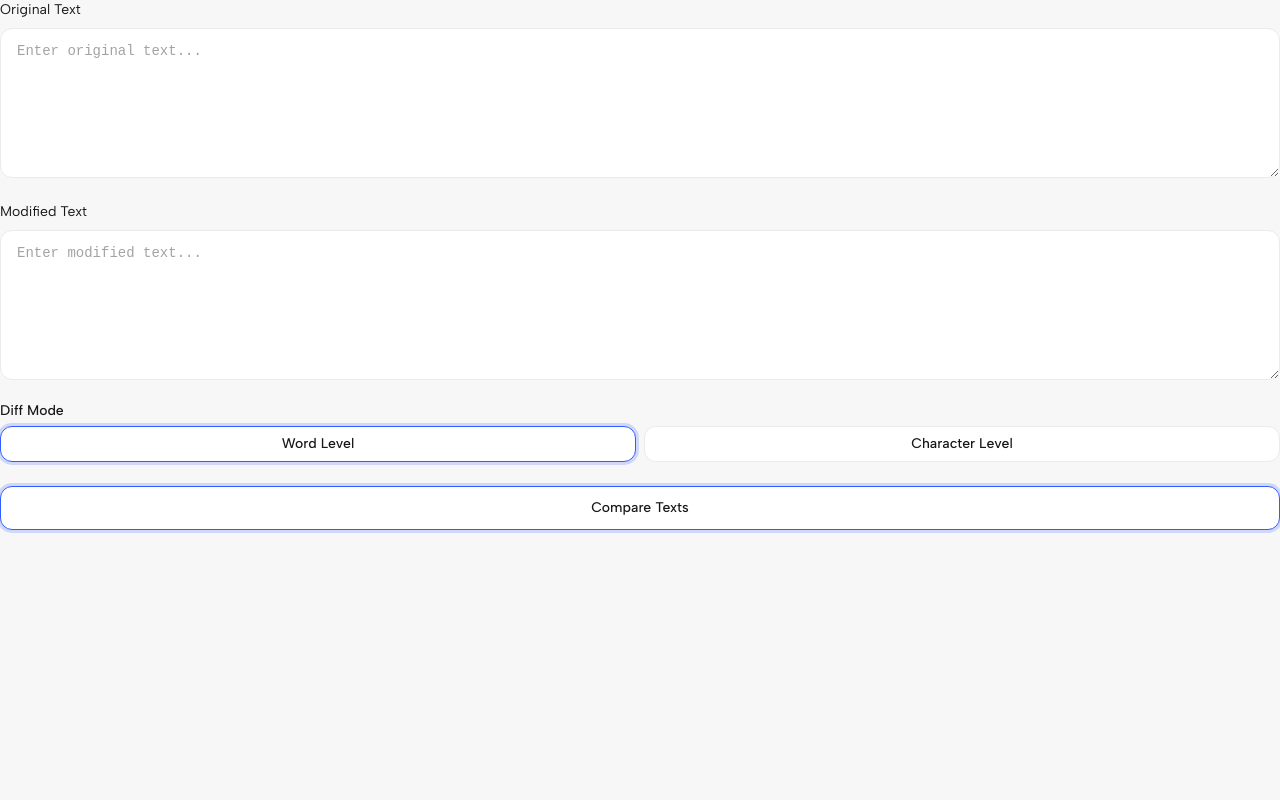
Test: TextComparerTool › performs word-level diff
Step 1. Type "The quick brown fox" into the text box with placeholder "Enter original text..." → (640, 103), box [0,28,1279,178]
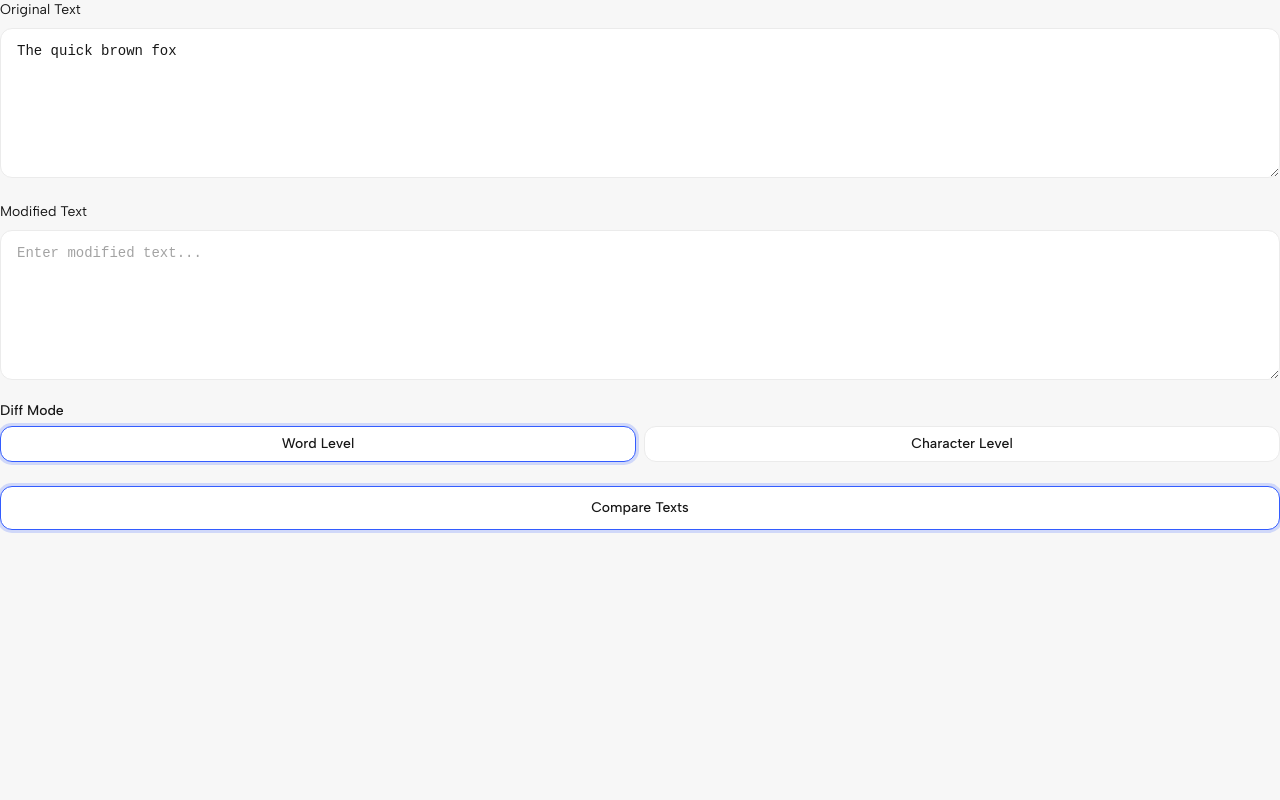
Step 2. Type "The quick red fox" into the text box with placeholder "Enter modified text..." → (640, 305), box [0,230,1279,380]
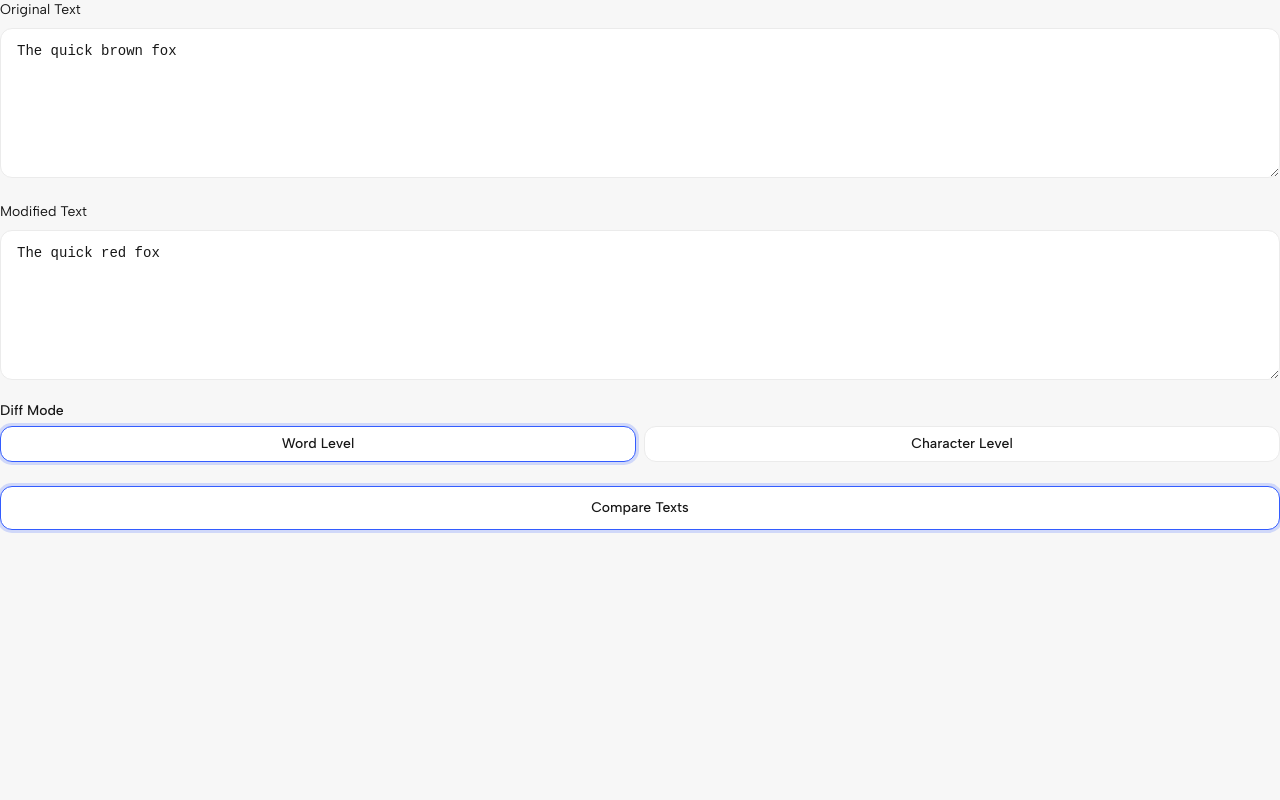
Step 3. Click the button "Compare Texts" → (640, 508), box [0,486,1279,530]
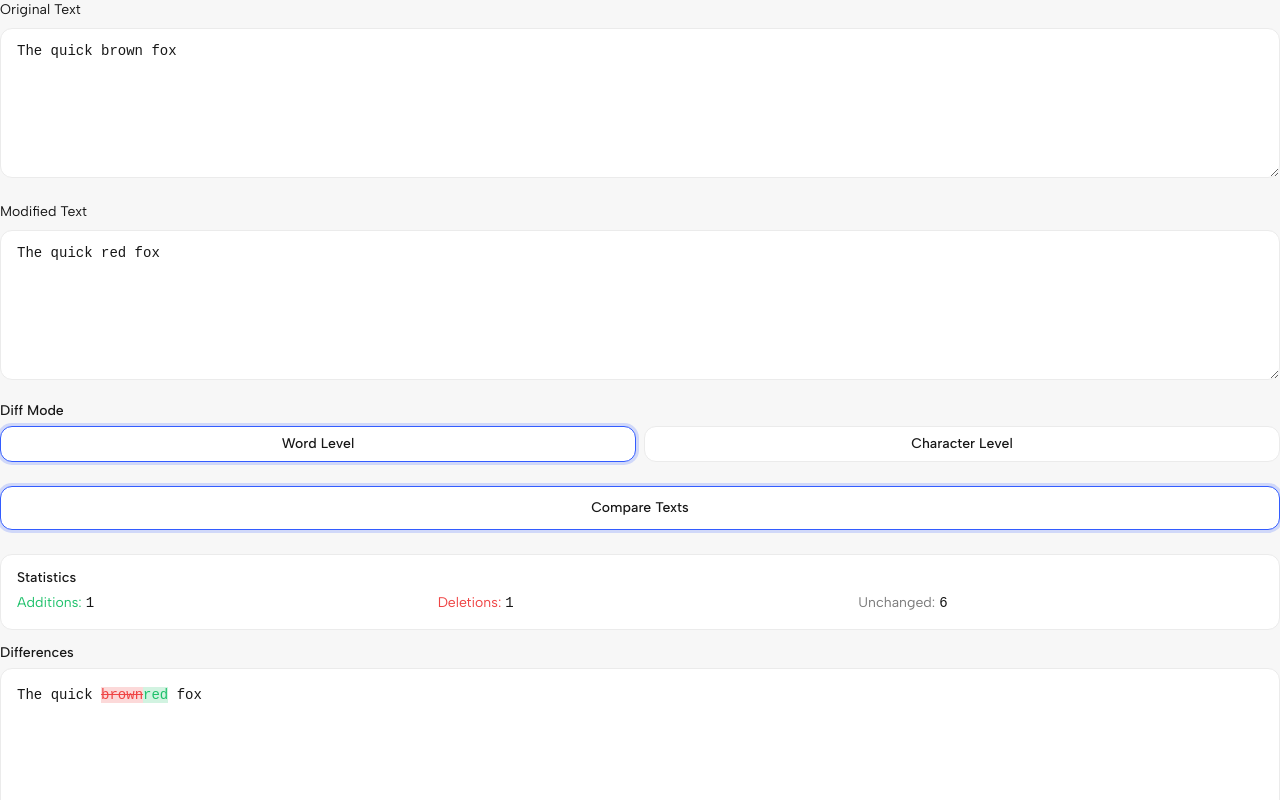
Now the text "Differences" is shown, box [0,644,74,661]
